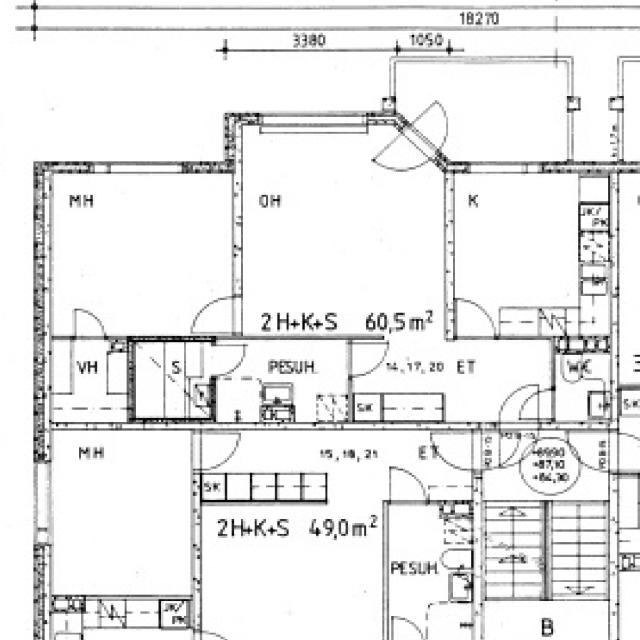door: (399, 97, 467, 160), (499, 385, 539, 430), (499, 422, 539, 466), (195, 297, 242, 332), (457, 304, 494, 342), (346, 344, 388, 377), (209, 345, 249, 376), (517, 389, 553, 419), (75, 309, 105, 340)
